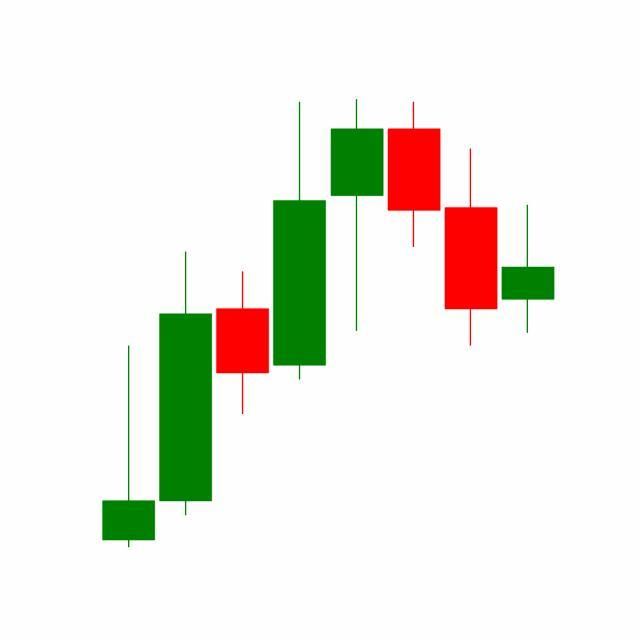Hikkake Pattern: (214, 99, 501, 419)
